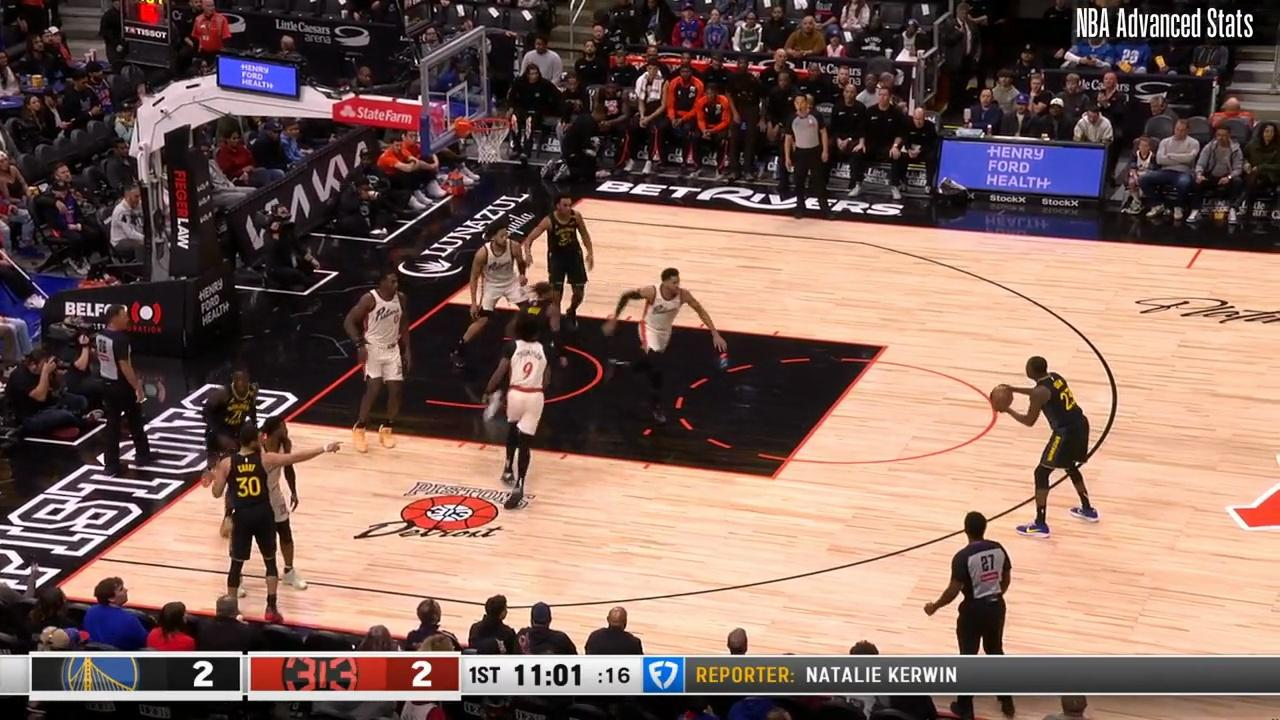basketball: (988, 385, 1017, 409)
